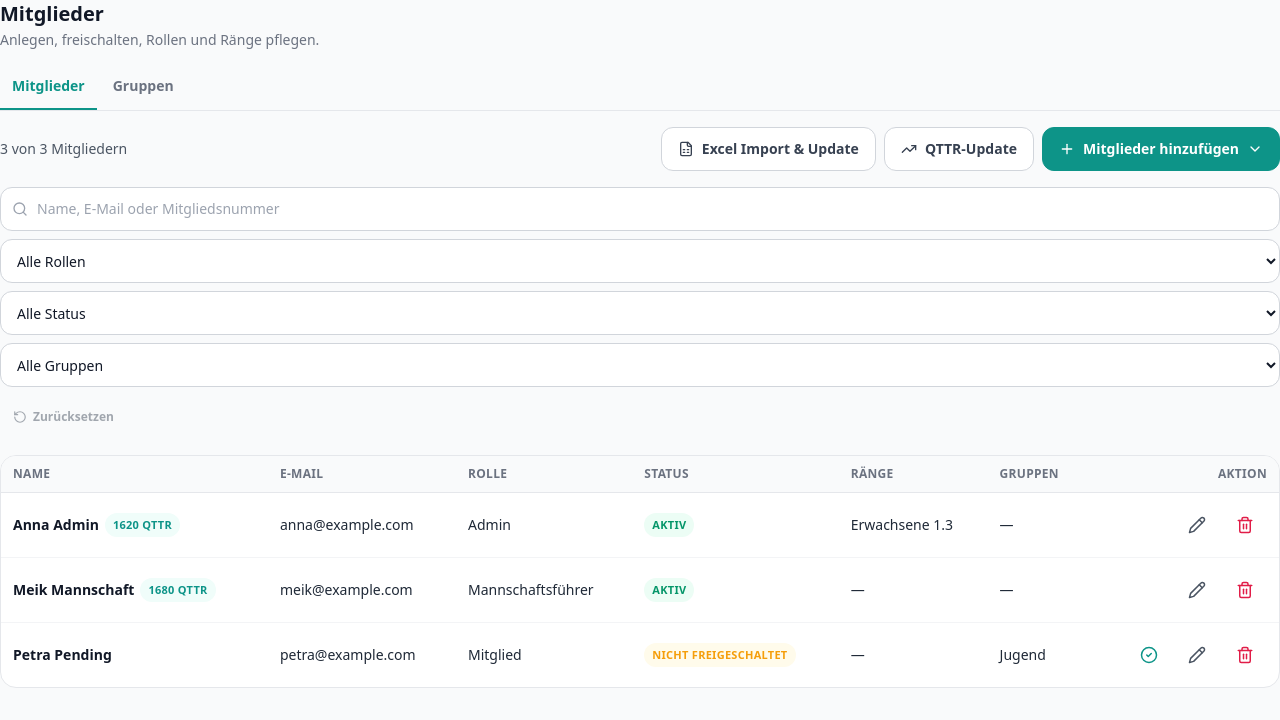
Scenario: MembersPage › weist eine unbrauchbare E-Mail-Adresse ab
Click the button "Mitglieder hinzufügen". click: [1161, 149]
box: [1042,127,1279,171]
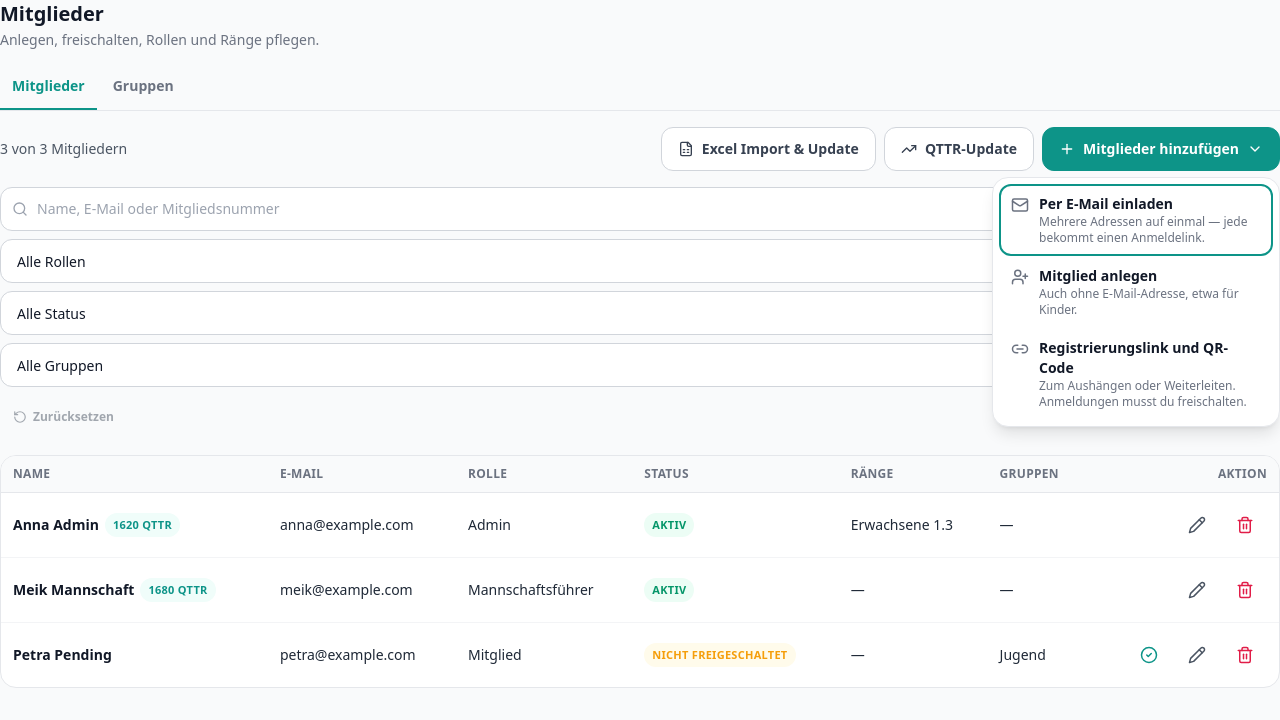
Click the menu item "Mitglied anlegen Auch ohne E-Mail-Adresse, etwa für Kinder.". click: [1136, 292]
box: [999,256,1273,328]
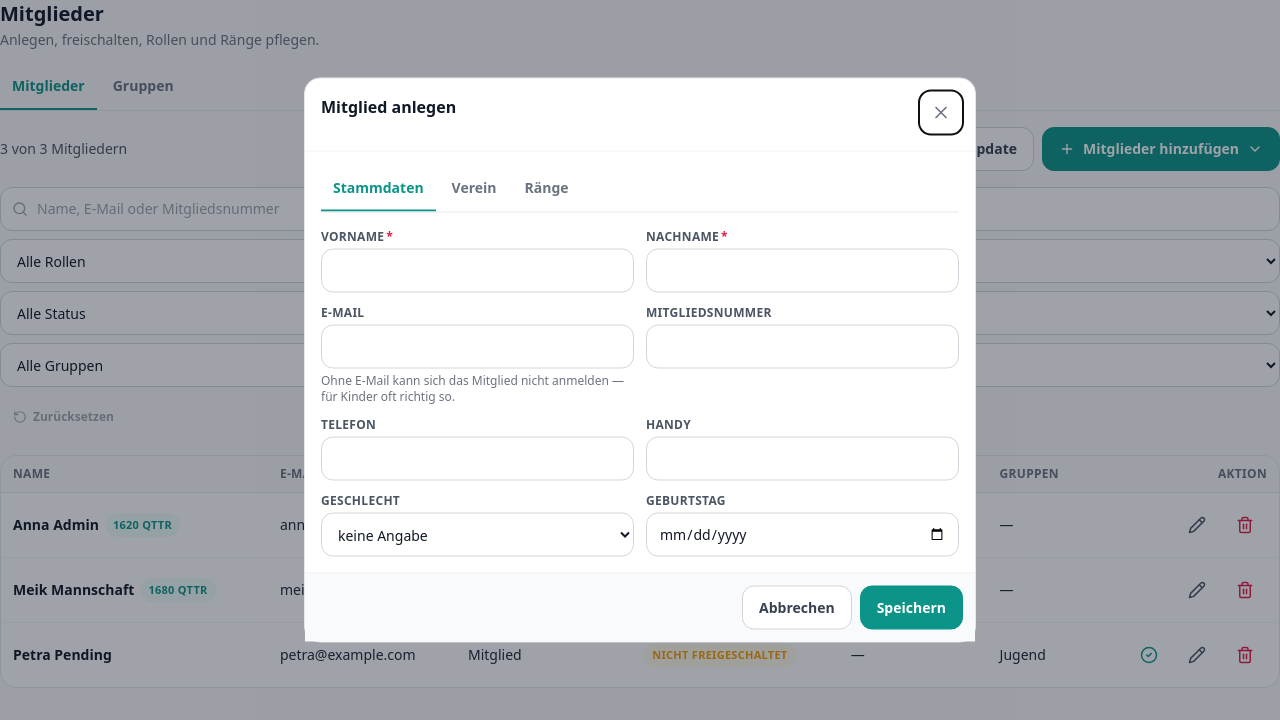
Type "Neues" into the field labelled "Vorname*". click: [478, 270]
box: [321,248,634,292]
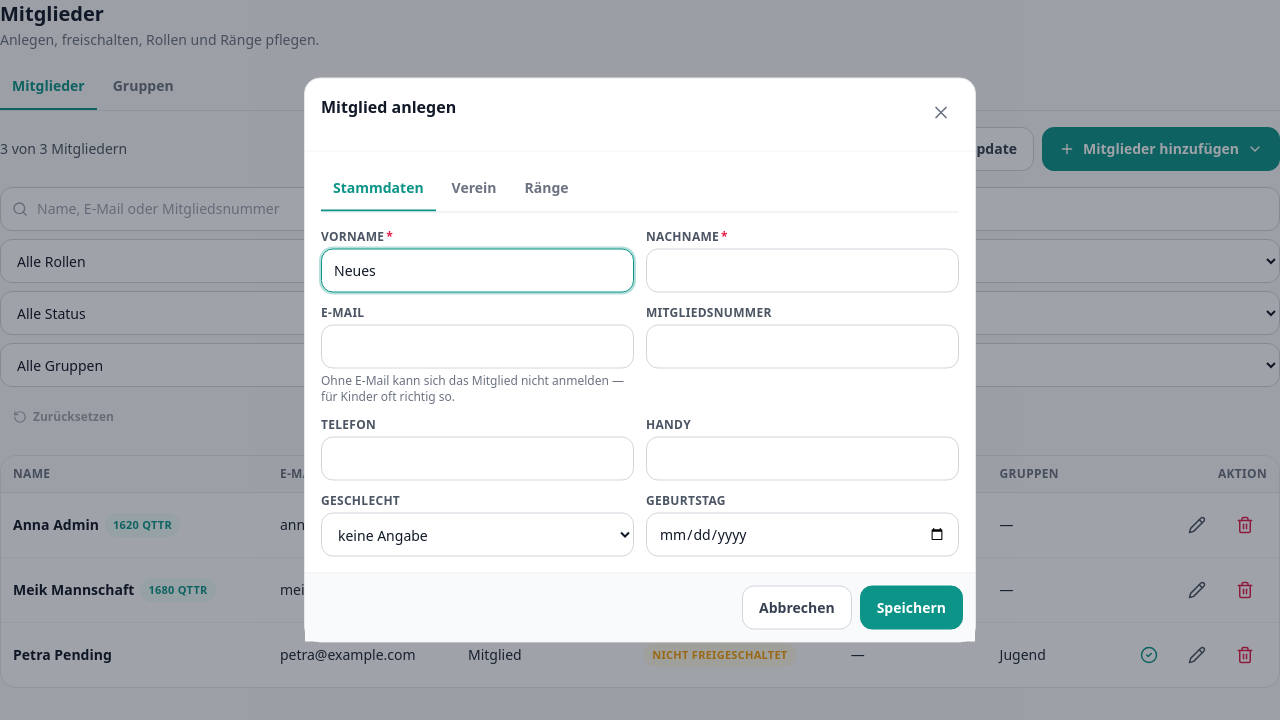
Type "Mitglied" into the field labelled "Nachname*". click: [802, 270]
box: [646,248,959,292]
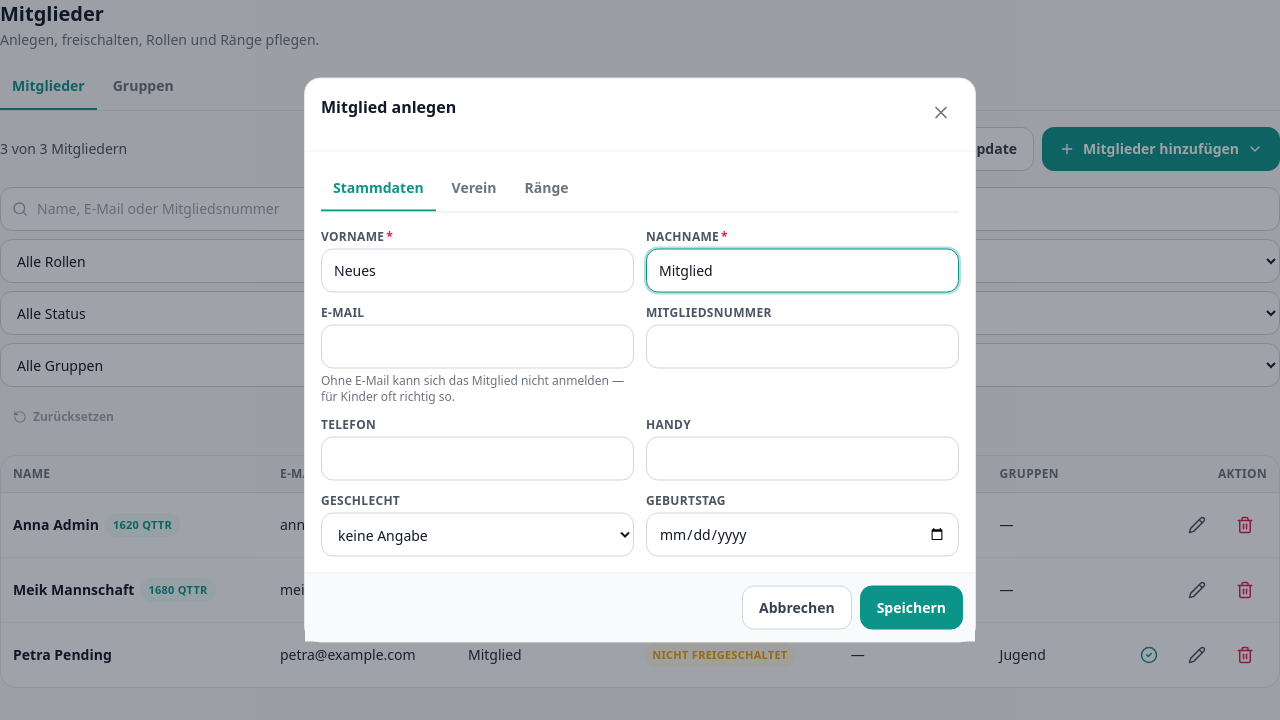
Type "keine-email" into the field labelled "E-Mail". click: [478, 346]
box: [321,324,634,368]
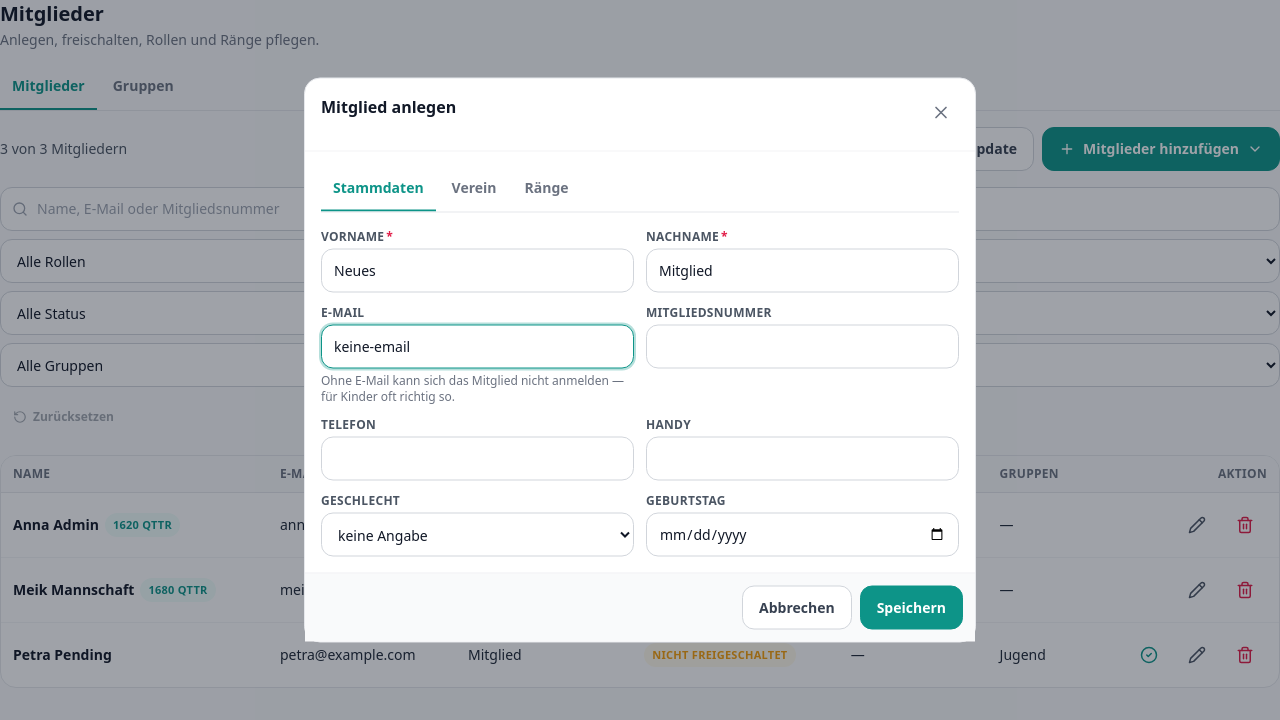
Click the button "Speichern". click: [911, 608]
box: [860,586,963,630]
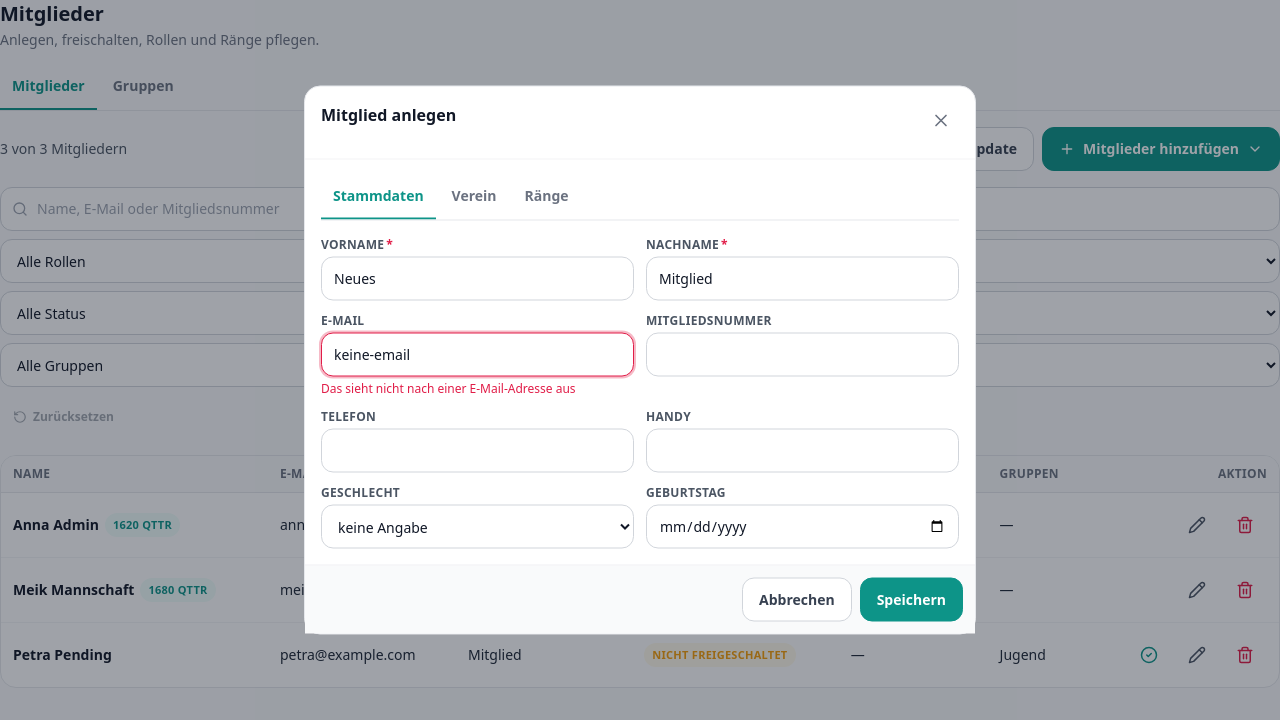
Check: the text "Das sieht nicht nach einer E-Mail-Adresse aus" is shown, box [321,380,576,396]
